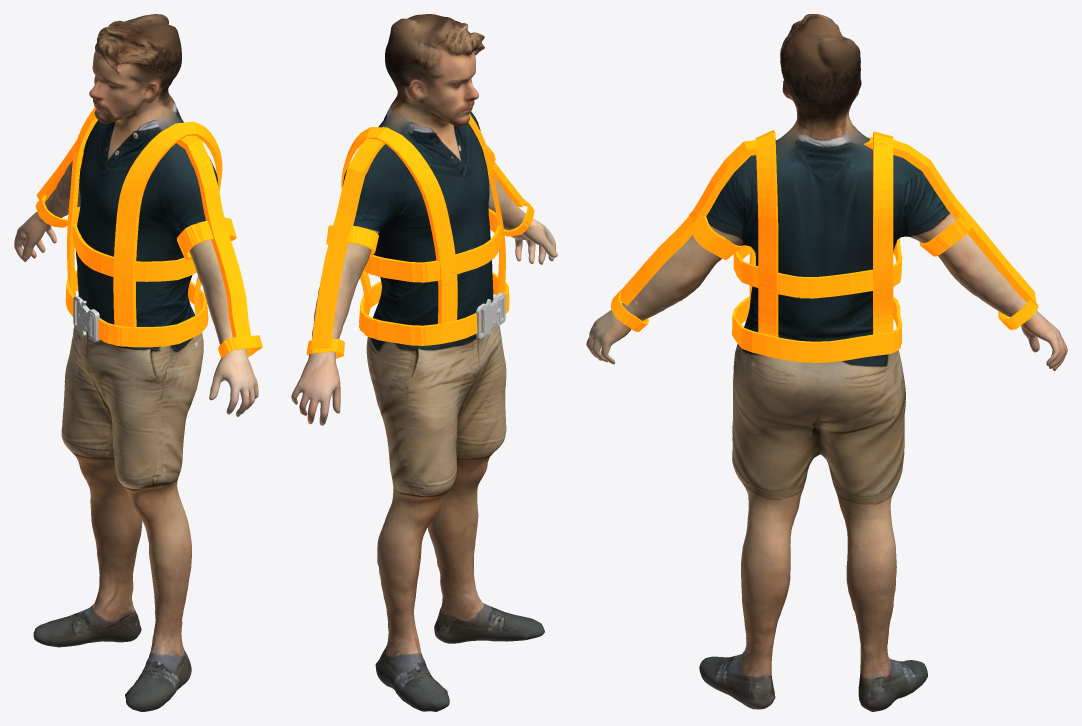
Rendered from sriram.glb.
The picture shows the model from 3 angles, left to right: view 1: azimuth 30°, elevation 25°; view 2: azimuth 150°, elevation 25°; view 3: azimuth 270°, elevation 25°; orthographic projection. The views are drawn at different scales.
Parts seen in each view (by area): view 1: model, Plane.001, Plane.005, Plane.002, Plane.003, Plane, Plane.009, Plane.007, Plane.004, Plane.006, Cube.003; view 2: model, Plane, Plane.004, Plane.002, Plane.003, Plane.001, Plane.008, Plane.005; view 3: model, Plane.002, Plane.001, Plane, Plane.003, Plane.005, Plane.004, Plane.009, Plane.008.
Boxes of the visible parts, x1,y1,x2,y2 form: model: (14,14,258,711); Plane.001: (113,121,222,327); Plane.005: (177,135,250,340); Plane.002: (65,270,208,347); Plane.003: (73,207,196,281); Plane: (67,107,97,296); Plane.009: (177,217,236,259); Plane.007: (218,335,262,358); Plane.004: (36,140,76,201); Plane.006: (35,195,67,227); Cube.003: (81,309,99,342); model: (291,14,557,711); Plane: (341,127,457,324); Plane.004: (311,127,384,348); Plane.002: (359,272,509,345); Plane.003: (363,208,501,282); Plane.001: (468,114,505,293); Plane.008: (326,225,378,256); Plane.005: (483,153,523,207); model: (586,14,1067,711); Plane.002: (732,296,902,362); Plane.001: (749,130,778,336); Plane: (873,131,893,334); Plane.003: (733,238,902,298); Plane.005: (619,140,756,305); Plane.004: (864,137,1036,304); Plane.009: (689,212,741,259); Plane.008: (919,215,971,256).
Size of the model in its own units: 0.9412 by 4.65 by 3.
Materials: 6 (1 with a texture image).
